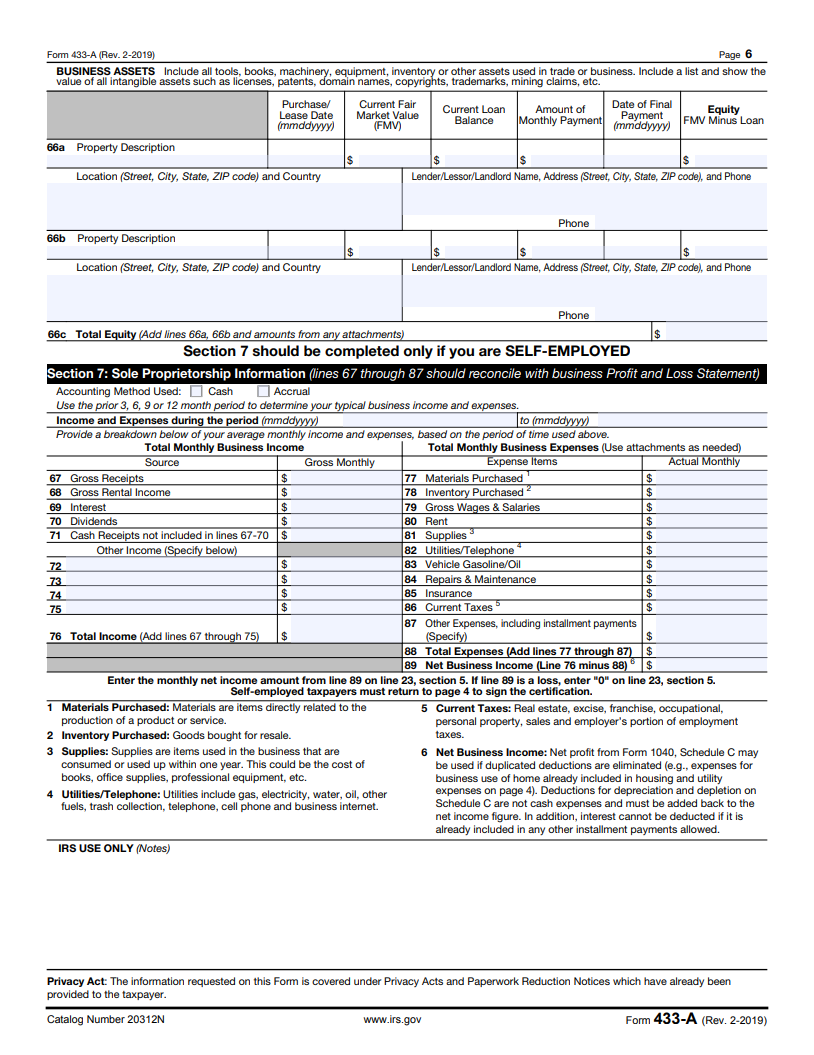checkbox: (188, 383, 204, 400), (255, 382, 271, 399)
textbox: (398, 164, 770, 235), (394, 255, 771, 324), (45, 254, 406, 326), (44, 165, 406, 235), (273, 610, 406, 645), (638, 611, 771, 646), (61, 554, 280, 575), (61, 567, 280, 588), (60, 581, 279, 602), (60, 594, 279, 615), (329, 410, 521, 431), (593, 409, 772, 431), (341, 226, 436, 266), (428, 225, 523, 265), (513, 226, 608, 266), (677, 223, 772, 263), (648, 317, 772, 347), (264, 224, 351, 264), (340, 134, 433, 171), (427, 136, 520, 173), (513, 134, 606, 171), (676, 135, 769, 172), (599, 225, 685, 263), (637, 467, 770, 491), (638, 478, 771, 502), (637, 492, 770, 516), (636, 507, 769, 531), (635, 522, 768, 546), (638, 536, 771, 560), (637, 549, 770, 573), (638, 565, 771, 589), (638, 579, 771, 603), (638, 593, 771, 617), (639, 637, 772, 661), (639, 650, 772, 674), (599, 134, 685, 171), (264, 134, 347, 170), (273, 468, 406, 488), (273, 481, 406, 501), (272, 496, 405, 516), (272, 510, 405, 530), (272, 523, 405, 543), (272, 553, 405, 573), (271, 568, 404, 588), (272, 582, 405, 602), (272, 596, 405, 616)
